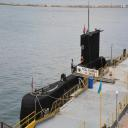submarine: (21, 29, 113, 125)
